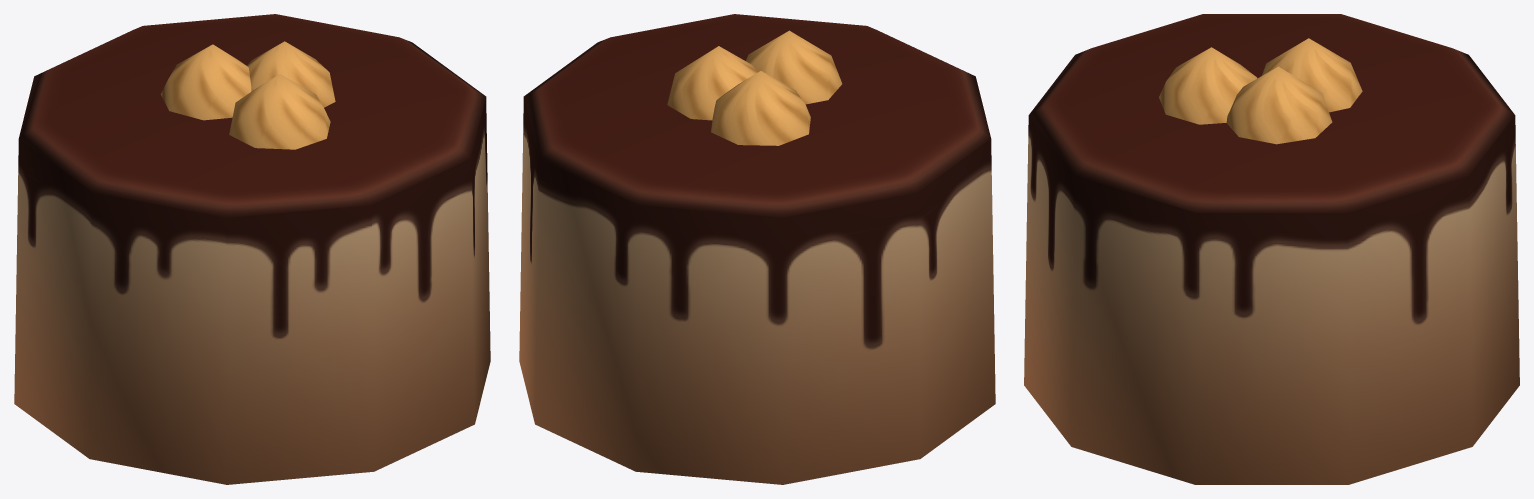
File: ChocDrip_Whole.fbx
3 views of the same model, side by side, from view 1: azimuth 30°, elevation 25°; view 2: azimuth 150°, elevation 25°; view 3: azimuth 270°, elevation 25° (orthographic).
Parts seen in each view (by area): view 1: ChocDrip_Whole; view 2: ChocDrip_Whole; view 3: ChocDrip_Whole.
Boxes of the visible parts, bbox=[...] form: ChocDrip_Whole: bbox=[14, 14, 490, 484]; ChocDrip_Whole: bbox=[519, 14, 995, 484]; ChocDrip_Whole: bbox=[1024, 14, 1519, 484].
Size of the model in its own units: 77.51 by 61.18 by 81.5.
